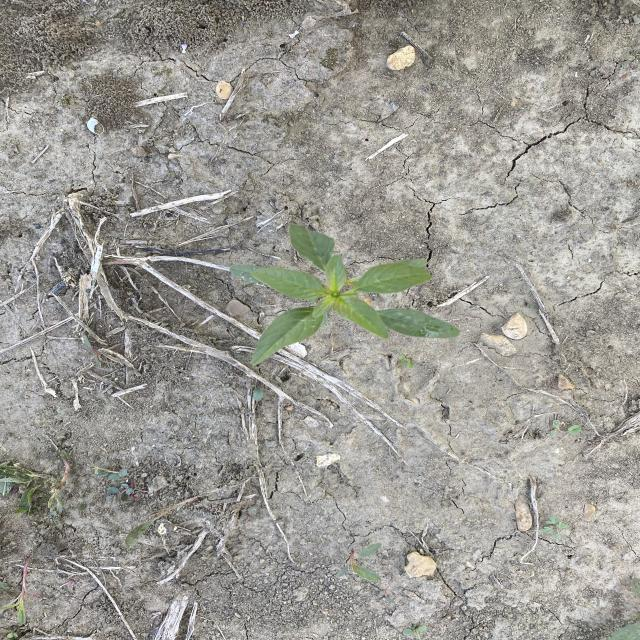Waterhemp: (227, 221, 463, 368)
